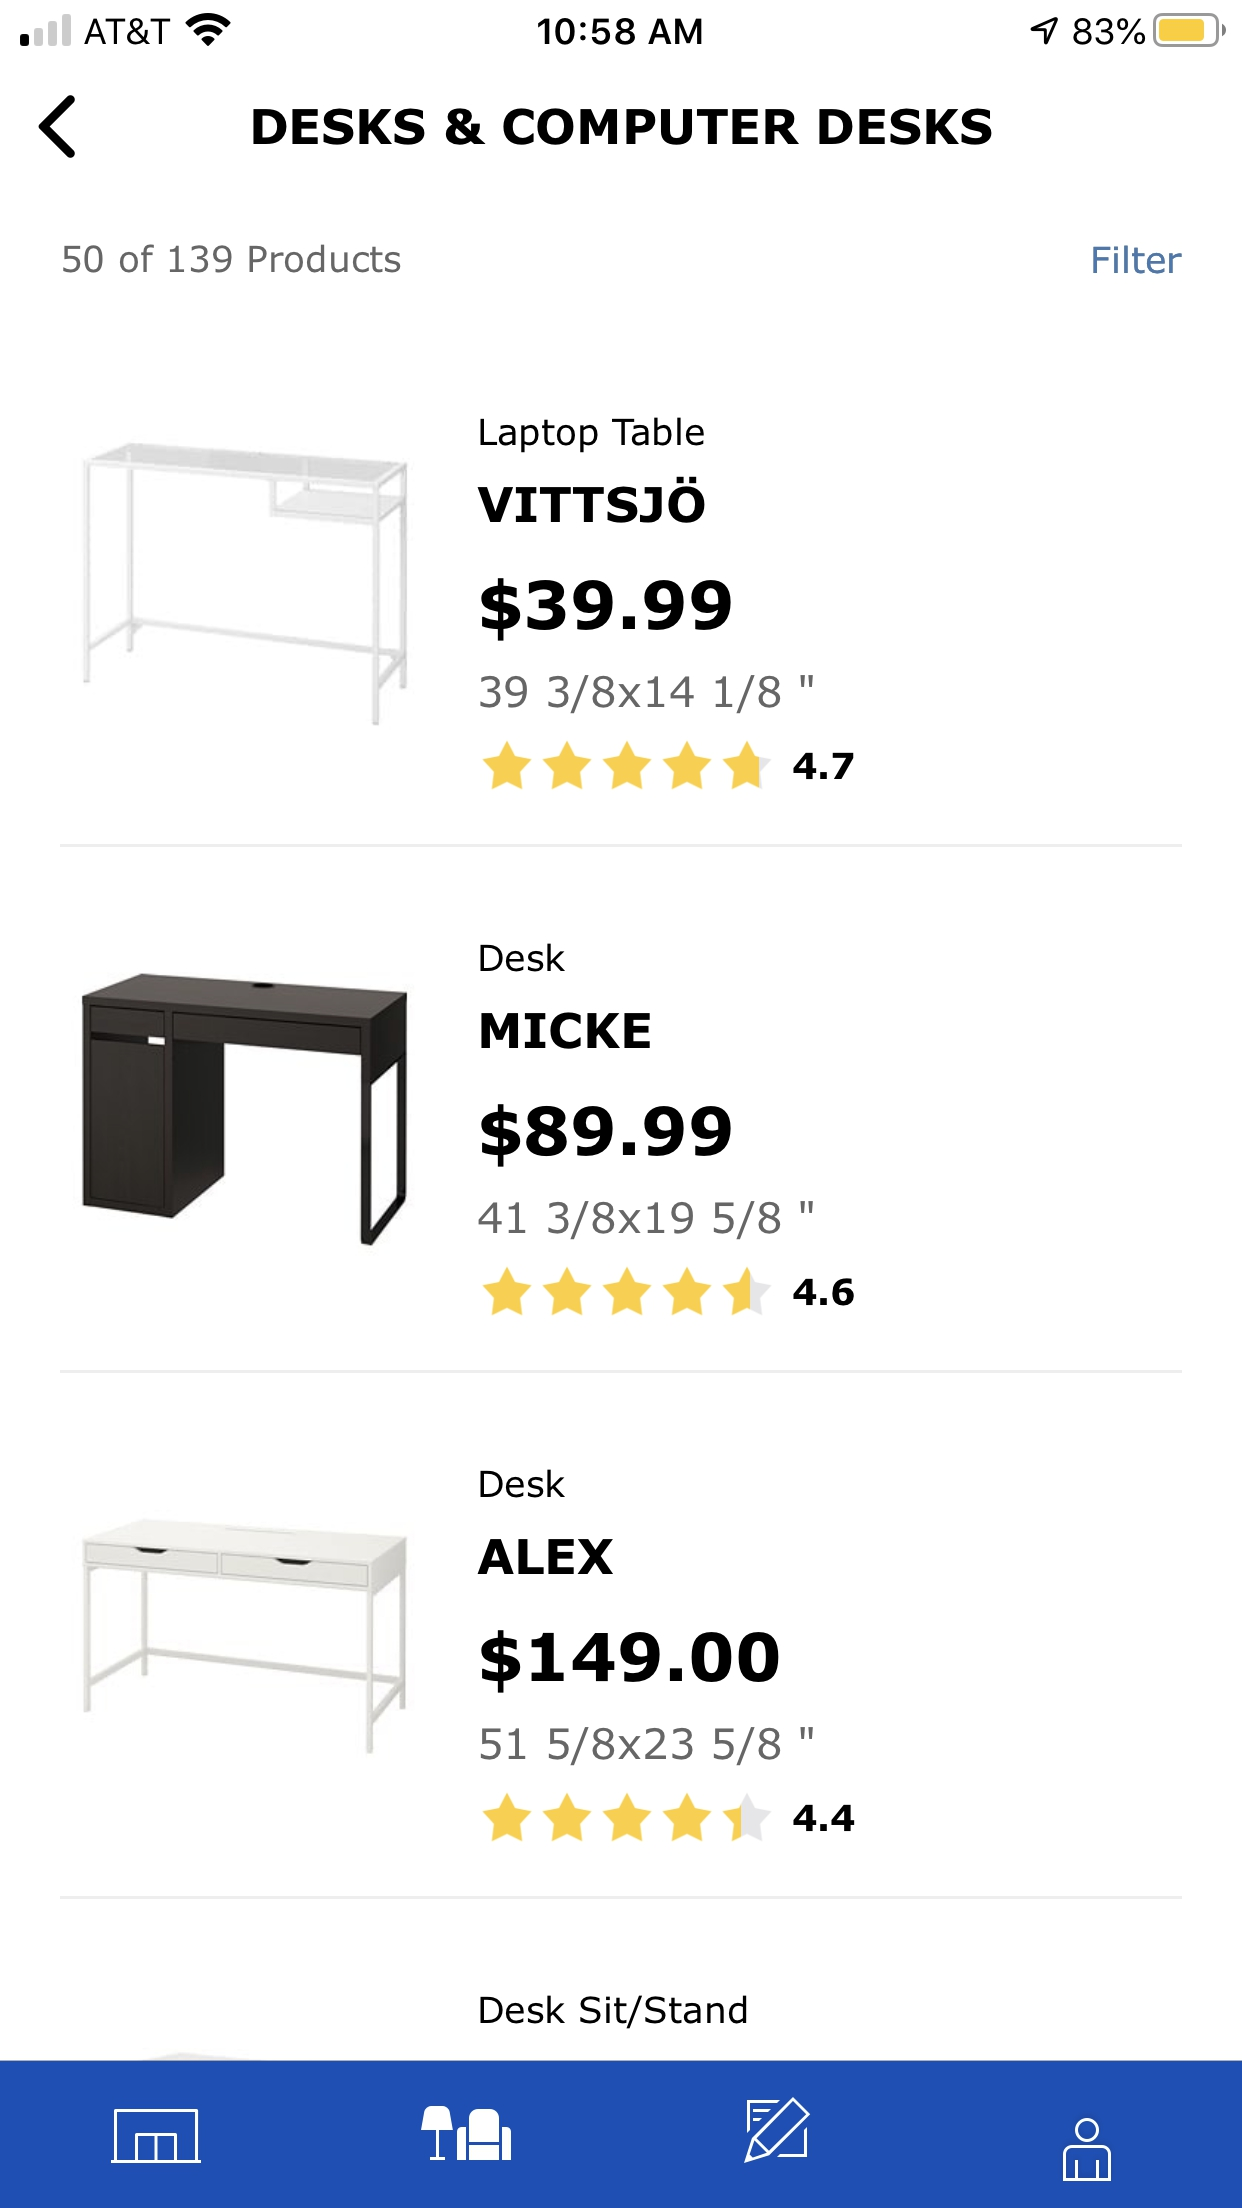Icon: (482, 740, 773, 792), (482, 1266, 773, 1316), (482, 1792, 772, 1843), (745, 2097, 811, 2164), (1062, 2117, 1112, 2182), (39, 96, 77, 161)
Image: (82, 441, 409, 726), (80, 972, 409, 1248), (82, 1516, 409, 1756), (422, 2105, 513, 2161), (111, 2109, 203, 2164)
Text: (253, 109, 992, 147), (481, 1630, 779, 1694), (481, 1102, 732, 1168), (481, 578, 732, 641), (481, 1726, 814, 1767), (481, 673, 814, 714), (478, 1201, 814, 1240), (478, 478, 707, 525), (64, 244, 400, 274), (479, 1994, 748, 2029), (481, 419, 705, 455), (481, 1011, 651, 1049), (478, 1538, 614, 1576), (1092, 246, 1183, 276), (481, 943, 566, 974), (481, 1469, 566, 1498), (792, 1278, 855, 1307), (792, 1805, 855, 1832), (793, 752, 855, 779)
UpperTaskBar: (2, 2, 1242, 49)
